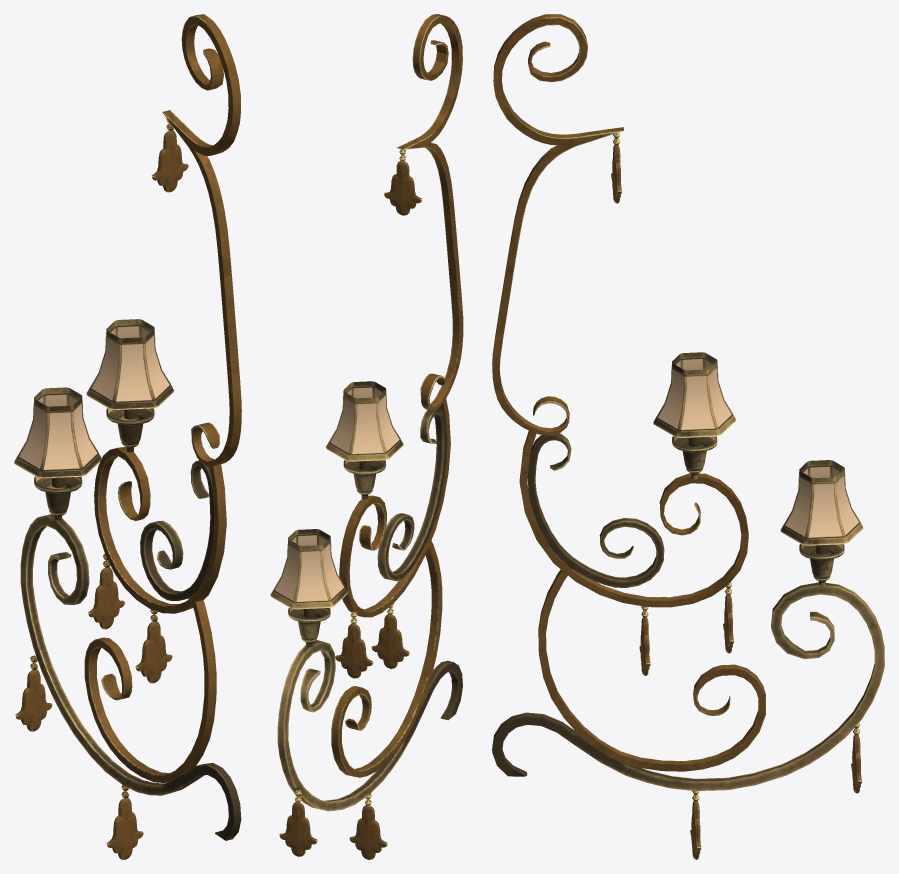
File: SM_WallLightChand.FBX
The picture shows the model from 3 angles, left to right: view 1: azimuth 30°, elevation 25°; view 2: azimuth 150°, elevation 25°; view 3: azimuth 270°, elevation 25°; orthographic projection. The views are drawn at different scales.
Visible parts, largest first — view 1: SM_WallLightChand; view 2: SM_WallLightChand; view 3: SM_WallLightChand.
Part boxes in pixels (left/top/right/bottom): SM_WallLightChand: left=14, top=14, right=241, bottom=859; SM_WallLightChand: left=270, top=14, right=463, bottom=859; SM_WallLightChand: left=492, top=14, right=884, bottom=859.
Size of what is drawn, in the model's own units: 32.61 by 154 by 367.
